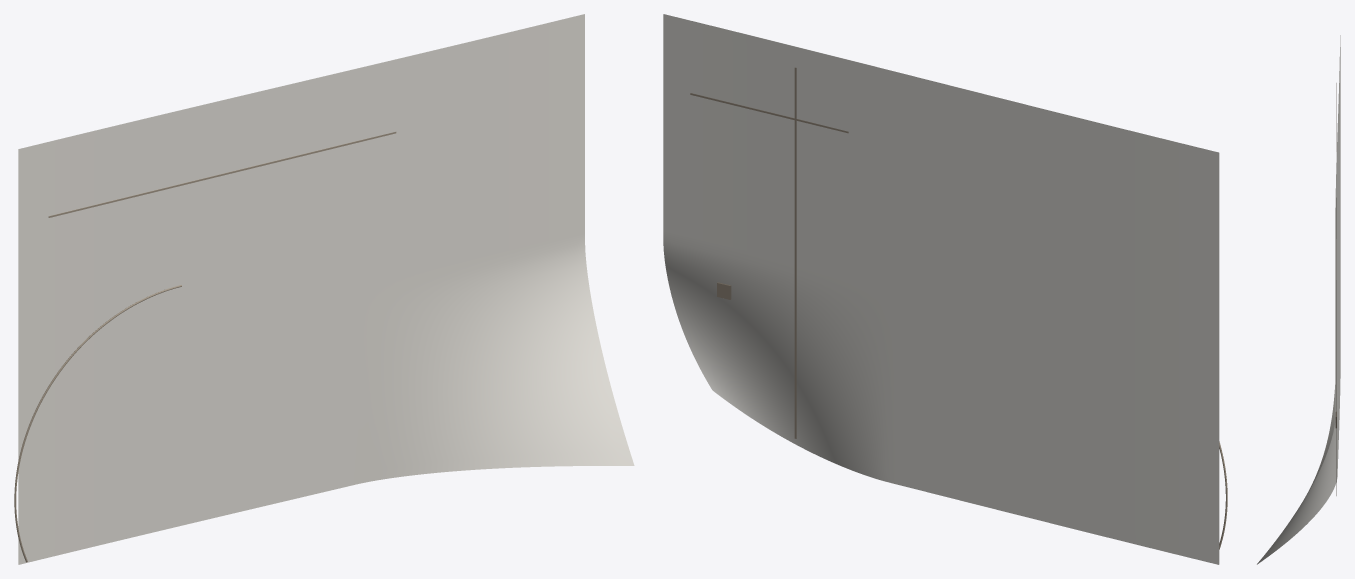
File: paper-sheet.glb
3 renders of one model, left to right at view 1: azimuth 30°, elevation 25°; view 2: azimuth 150°, elevation 25°; view 3: azimuth 270°, elevation 25°, orthographic. The views are drawn at different scales.
Parts seen in each view (by area): view 1: front, back, rule-h, arc; view 2: back, rule-v, front; view 3: back, front, rule-v.
Boxes of the visible parts, x1,y1,x2,y2 form: front: (18, 14, 634, 564); back: (18, 14, 584, 564); rule-h: (48, 132, 396, 217); arc: (14, 285, 181, 562); back: (663, 14, 1218, 564); rule-v: (794, 67, 796, 438); front: (664, 14, 1219, 564); back: (1257, 47, 1340, 564); front: (1257, 35, 1340, 563); rule-v: (1336, 197, 1336, 495).
Bounding box in the file's own units: 2.12 × 1.48 × 0.342.
